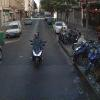Motorcycle: (25, 31, 48, 68)
